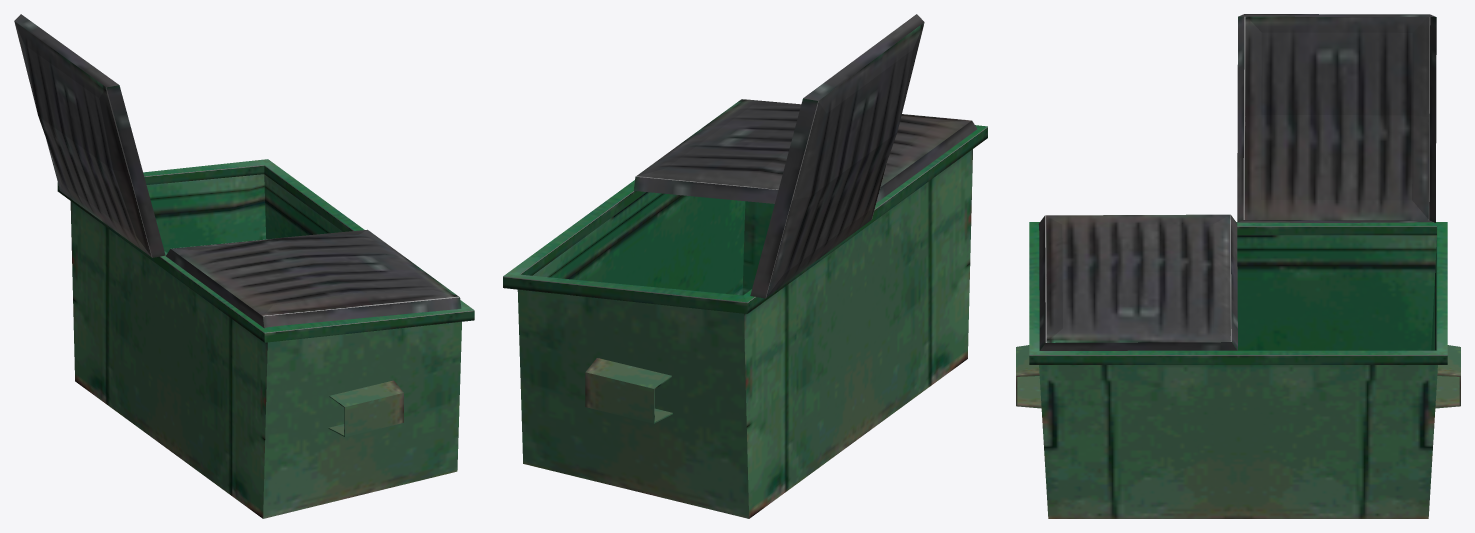
The model's file is Urban_DumpsterDiagonalEmptyOpen_Model.fbx.
3 views of the same model, side by side, from view 1: azimuth 30°, elevation 25°; view 2: azimuth 150°, elevation 25°; view 3: azimuth 270°, elevation 25° (orthographic). The views are drawn at different scales.
Parts seen in each view (by area): view 1: Urban_DumpsterDiagonalEmptyOpen_Mesh; view 2: Urban_DumpsterDiagonalEmptyOpen_Mesh; view 3: Urban_DumpsterDiagonalEmptyOpen_Mesh.
Boxes of the visible parts, bbox=[...] form: Urban_DumpsterDiagonalEmptyOpen_Mesh: bbox=[14, 14, 474, 518]; Urban_DumpsterDiagonalEmptyOpen_Mesh: bbox=[503, 14, 987, 518]; Urban_DumpsterDiagonalEmptyOpen_Mesh: bbox=[1016, 14, 1460, 518].
Bounding box in the file's own units: 2.53 × 3.48 × 3.67.
